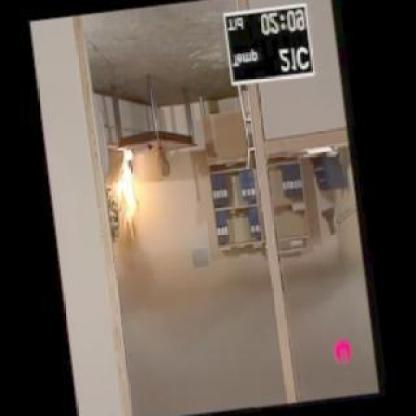Fire: (111, 146, 146, 244)
